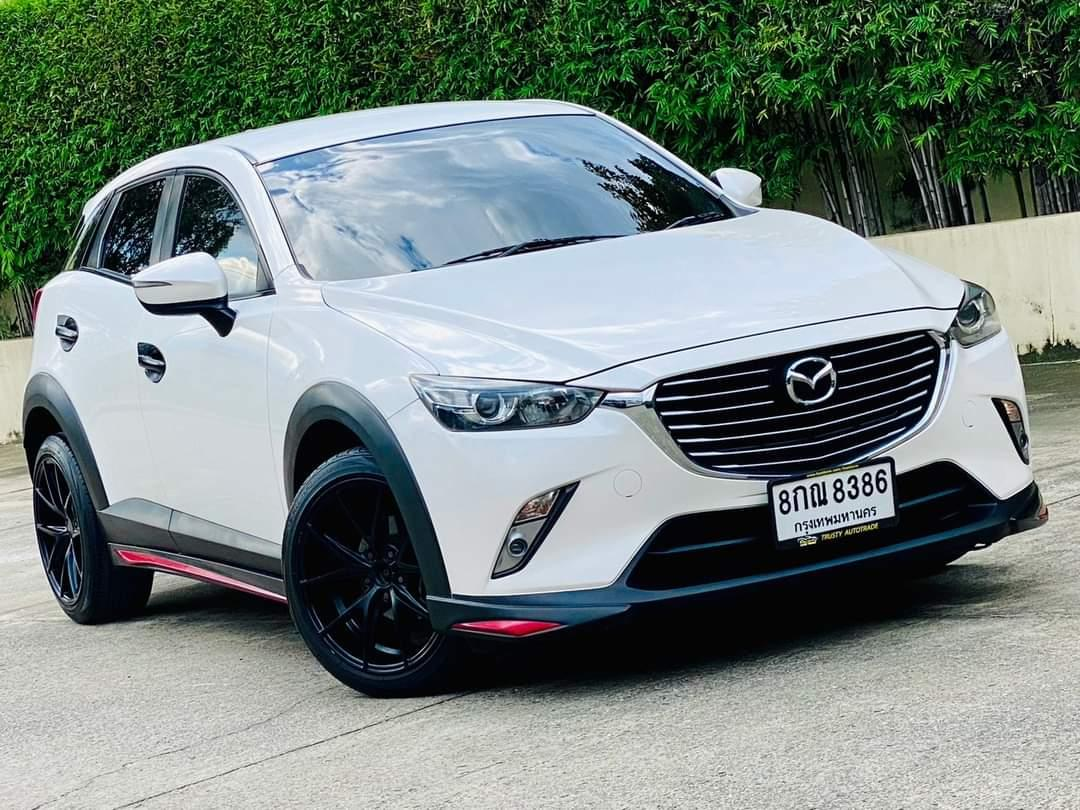license-plate: (764, 456, 899, 558)
